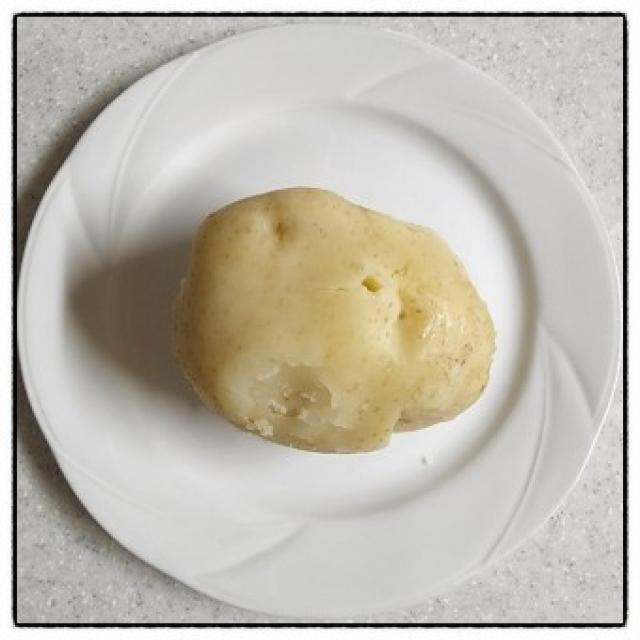potato: (172, 182, 503, 462)
